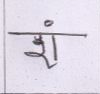anusvara: (45, 20, 53, 26)
